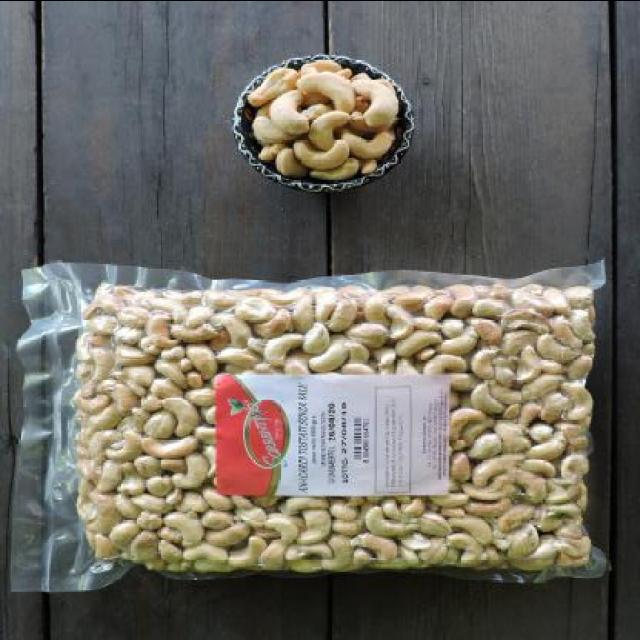Frutta secca: (250, 51, 406, 177)
